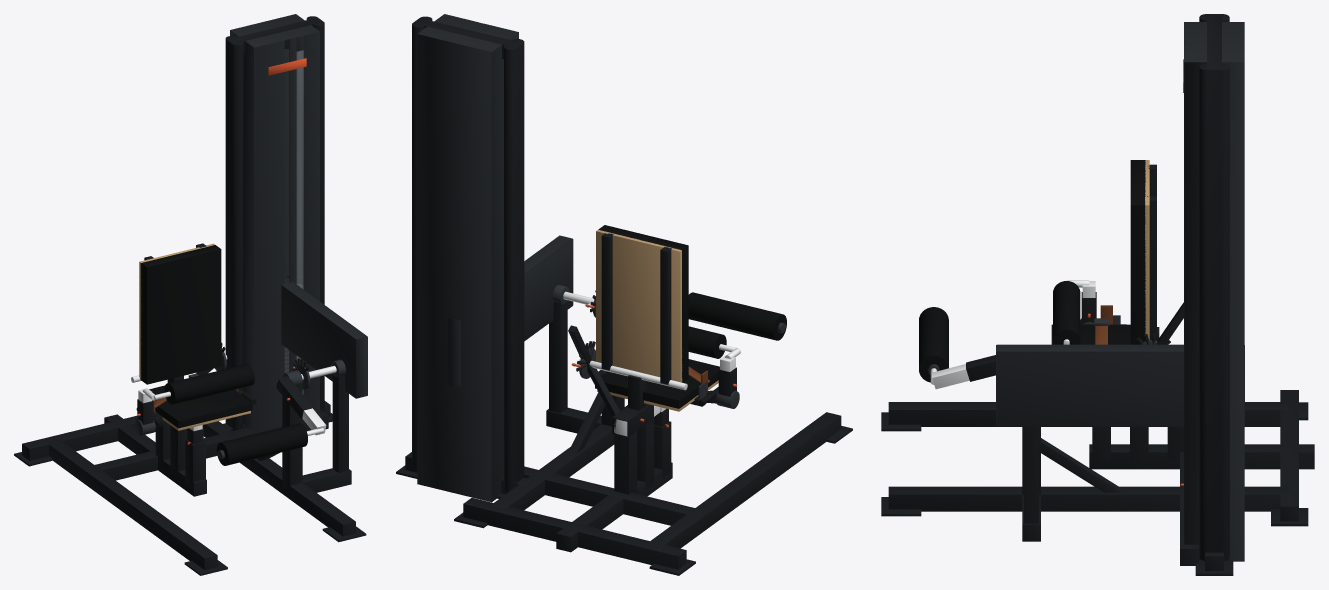
3 views of the same model, side by side, from view 1: azimuth 30°, elevation 25°; view 2: azimuth 150°, elevation 25°; view 3: azimuth 270°, elevation 25° (orthographic). The views are drawn at different scales.
Parts seen in each view (by area): view 1: shroud.003, pad.001, frame.012, shroud.005, frame.004, shroud, shroud.011, frame.006, pad, pad.002, shroud.004, pad.003 (+19 smaller); view 2: shroud.002, frame.012, wood.001, shroud, frame.004, frame.001, frame.008, shroud.011, frame.013, pad.002, frame.006, pad (+17 smaller); view 3: shroud.001, frame.013, shroud.012, frame.006, frame.004, frame, pad.001, frame.001, pad.002, shroud.008, pad.003, shroud.014 (+12 smaller).
Boxes of the visible parts, x1=… form: shroud.003: x1=254, y1=40, x2=284, y2=431; pad.001: x1=141, y1=245, x2=221, y2=384; frame.012: x1=225, y1=36, x2=243, y2=430; shroud.005: x1=303, y1=31, x2=319, y2=415; frame.004: x1=45, y1=438, x2=217, y2=569; shroud: x1=230, y1=30, x2=254, y2=431; shroud.011: x1=281, y1=285, x2=355, y2=397; frame.006: x1=202, y1=421, x2=355, y2=536; pad: x1=149, y1=385, x2=252, y2=428; pad.002: x1=216, y1=423, x2=307, y2=465; shroud.004: x1=289, y1=37, x2=296, y2=371; pad.003: x1=164, y1=364, x2=254, y2=404; shroud.002: x1=417, y1=34, x2=491, y2=502; frame.012: x1=504, y1=39, x2=524, y2=491; wood.001: x1=596, y1=229, x2=682, y2=382; shroud: x1=491, y1=32, x2=518, y2=501; frame.004: x1=646, y1=412, x2=841, y2=548; frame.001: x1=463, y1=498, x2=686, y2=569; frame.008: x1=524, y1=466, x2=694, y2=525; shroud.011: x1=524, y1=239, x2=572, y2=340; frame.013: x1=412, y1=16, x2=432, y2=469; pad.002: x1=688, y1=292, x2=786, y2=340; frame.006: x1=490, y1=405, x2=627, y2=510; pad: x1=595, y1=359, x2=719, y2=408; shroud.001: x1=1184, y1=62, x2=1244, y2=561; frame.013: x1=1199, y1=63, x2=1229, y2=560; shroud.012: x1=997, y1=352, x2=1183, y2=425; frame.006: x1=888, y1=486, x2=1289, y2=511; frame.004: x1=888, y1=402, x2=1289, y2=426; frame: x1=1089, y1=444, x2=1314, y2=469; pad.001: x1=1130, y1=160, x2=1145, y2=344; frame.001: x1=1280, y1=390, x2=1298, y2=521; pad.002: x1=919, y1=307, x2=948, y2=382; shroud.008: x1=1184, y1=22, x2=1244, y2=61; pad.003: x1=1053, y1=281, x2=1080, y2=344; shroud.014: x1=996, y1=344, x2=1183, y2=352.
Bounding box in the file's own units: 1.62 × 2.2 × 1.73.
